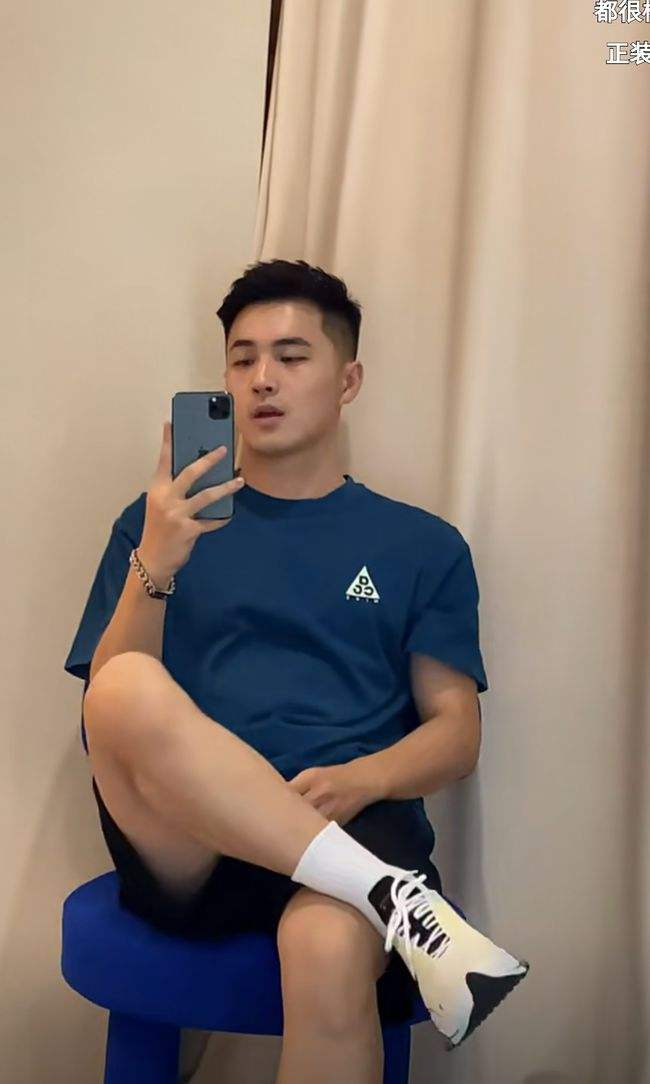person: (66, 280, 556, 849)
